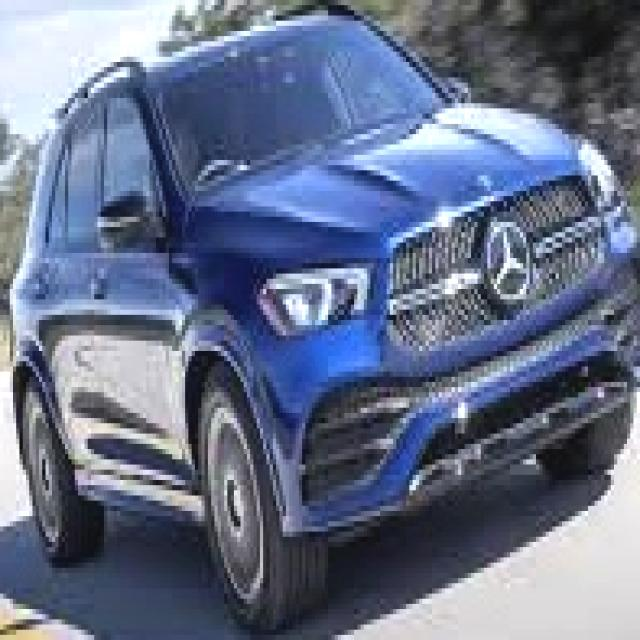blue: (6, 0, 640, 625)
